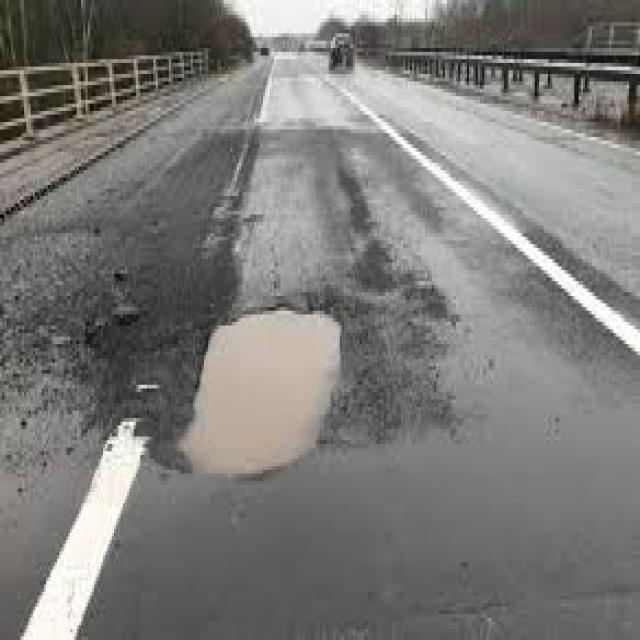Pothole: (173, 311, 342, 481)
